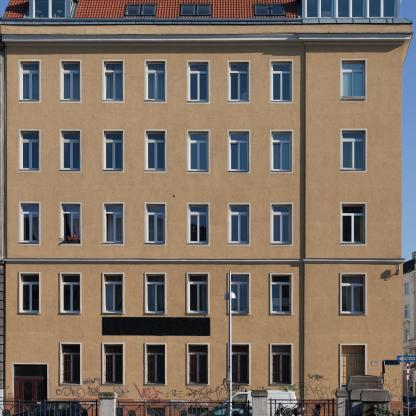Building Outline: (0, 0, 414, 416)
Door: (14, 377, 47, 416)
Facade: (0, 0, 414, 416)
Floor: (7, 40, 402, 116), (7, 192, 402, 258), (6, 265, 403, 329), (7, 123, 402, 185)
Floor Slab: (3, 33, 411, 40), (6, 329, 403, 336), (6, 258, 402, 265), (7, 185, 402, 192), (7, 116, 402, 123)
Ground Floor: (6, 336, 403, 416)
Roof: (0, 0, 413, 25)
Top Floor: (9, 1, 400, 33)
Window: (306, 0, 396, 18), (342, 346, 365, 385), (342, 60, 365, 99), (342, 130, 365, 169), (342, 204, 365, 243), (342, 274, 365, 313), (188, 344, 208, 384), (189, 131, 209, 171), (189, 62, 209, 101), (189, 204, 209, 243), (229, 131, 249, 170), (188, 274, 208, 313), (62, 344, 81, 384), (229, 62, 249, 100), (229, 205, 249, 243), (272, 344, 291, 384), (20, 273, 39, 312), (20, 61, 39, 100), (20, 203, 39, 242), (61, 61, 80, 100), (104, 345, 123, 384), (104, 61, 123, 100), (146, 345, 165, 384), (146, 61, 165, 100), (230, 345, 249, 384), (272, 131, 291, 170), (230, 274, 249, 313), (272, 274, 291, 313), (20, 131, 39, 169), (61, 131, 80, 169), (61, 204, 80, 242), (104, 131, 123, 169), (104, 204, 123, 242), (146, 131, 165, 169), (146, 204, 165, 242), (272, 62, 291, 100), (272, 204, 291, 242), (61, 274, 80, 312), (104, 274, 123, 312), (146, 274, 165, 312), (35, 0, 66, 18), (14, 364, 47, 377), (142, 5, 155, 14), (272, 5, 284, 14), (127, 5, 139, 14), (182, 5, 194, 14), (198, 5, 210, 14), (256, 5, 267, 14)
